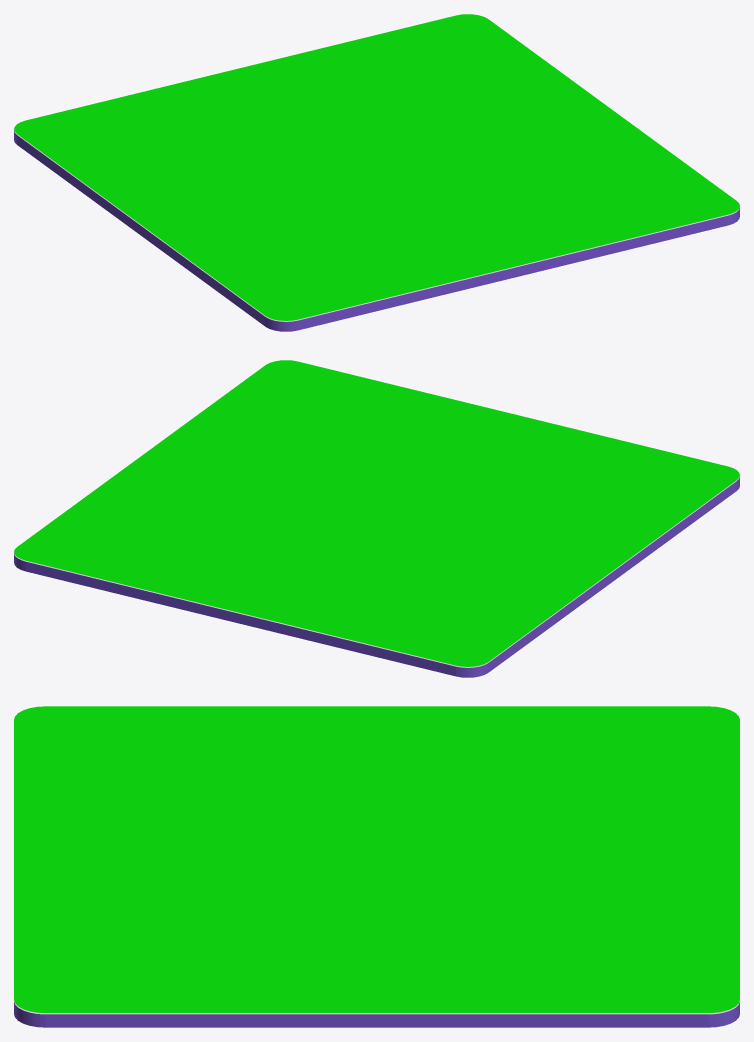
The model's file is RoundSquareSample.fbx.
3 views of the same model, one above another, from view 1: azimuth 30°, elevation 25°; view 2: azimuth 150°, elevation 25°; view 3: azimuth 270°, elevation 25° (orthographic). The views are drawn at different scales.
Parts seen in each view (by area): view 1: RoundSquare; view 2: RoundSquare; view 3: RoundSquare.
Boxes of the visible parts, <box> form: RoundSquare: <box>14,14,739,331</box>; RoundSquare: <box>14,360,739,677</box>; RoundSquare: <box>14,706,739,1027</box>.
Size of the model in its own units: 200 by 4.41 by 200.
